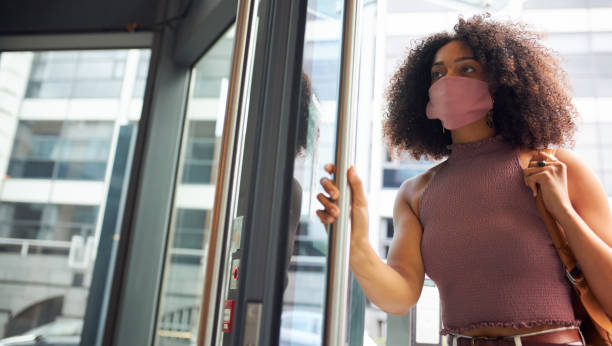with mask: (422, 44, 493, 133)
